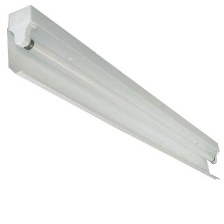light_bulb: (20, 36, 216, 164)
